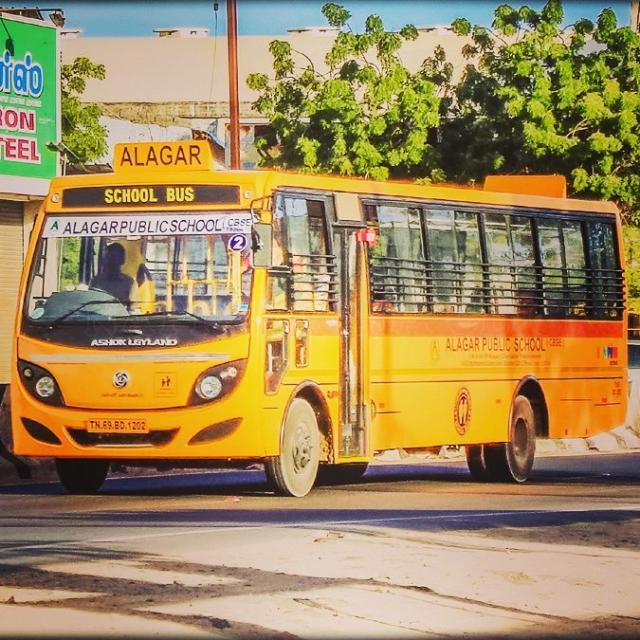Bus: (8, 140, 630, 498)
